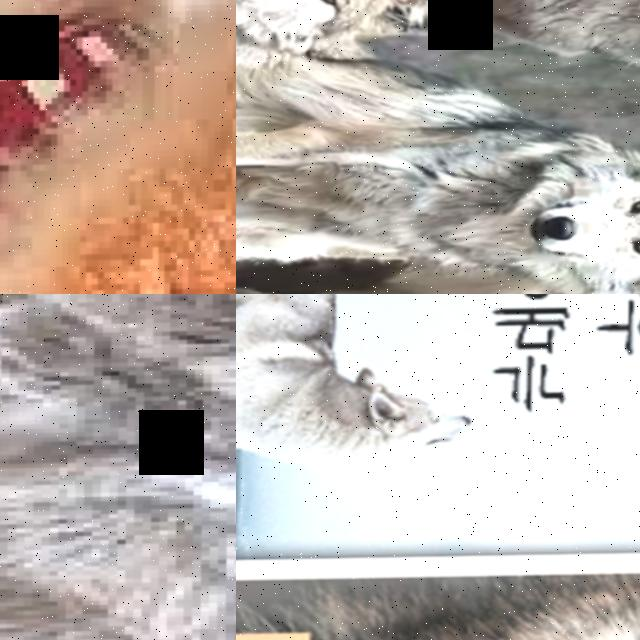dog: (0, 0, 236, 294)
wolf: (236, 46, 640, 294), (0, 294, 236, 640), (236, 294, 486, 483), (236, 559, 640, 640), (409, 0, 640, 86)
